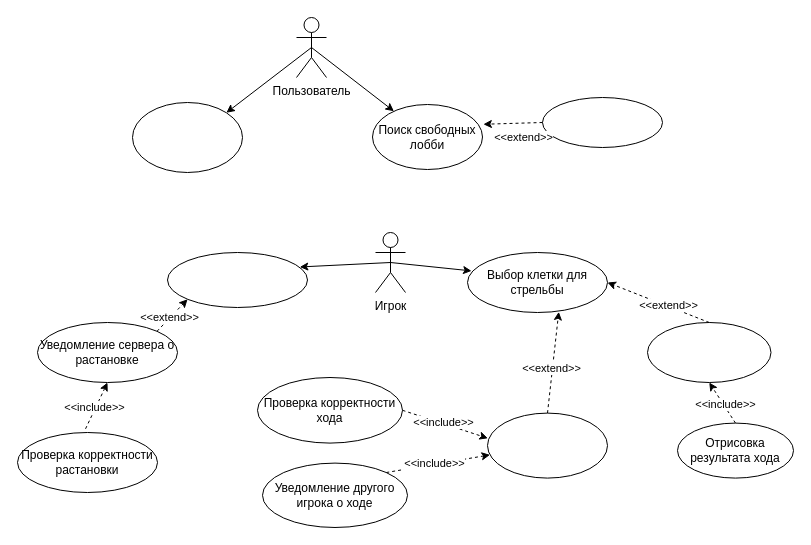
This 811x545 diagram has some shape labels left out. Here are the shapes that lost their labels. From the top down, the box of each, then its label:
(132, 102, 242, 172): Создание лобби
(542, 96, 662, 148): Фильтрация по имени лобби
(166, 252, 308, 308): Растановка своих кораблей
(646, 322, 771, 382): Получение ответа от сервера
(486, 412, 608, 478): Запрос серверу
